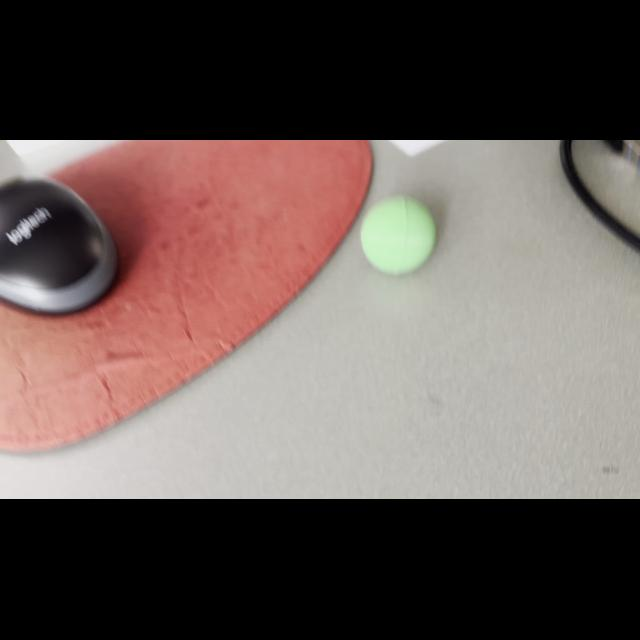objects: (355, 188, 443, 280)
